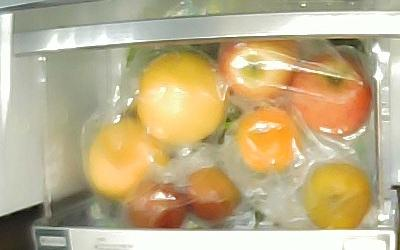apple_vinyl: (291, 53, 371, 139), (217, 39, 299, 100)
grapefruit_vinyl: (136, 51, 227, 146), (88, 117, 171, 201)
persimmon_vinyl: (304, 162, 370, 229), (238, 108, 301, 174)
prune_vinyl: (185, 167, 242, 221), (127, 181, 185, 230)
